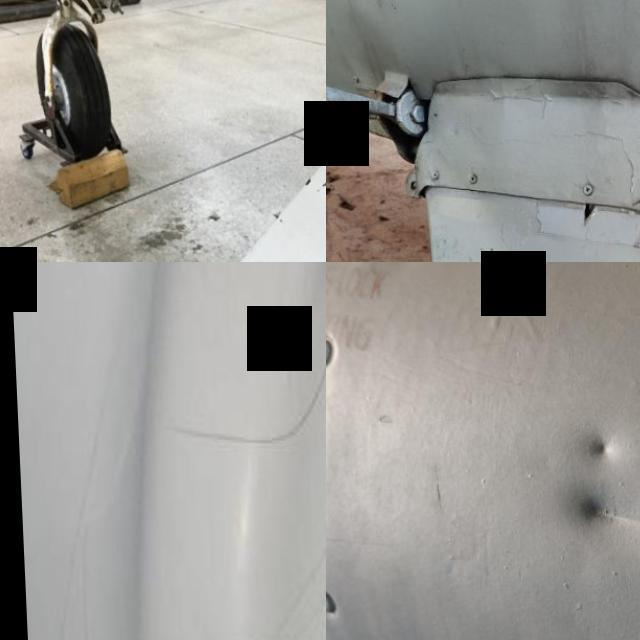Crack: (160, 343, 326, 448), (563, 191, 610, 237), (296, 156, 326, 205)
Dent: (559, 470, 640, 562), (568, 420, 634, 488)
